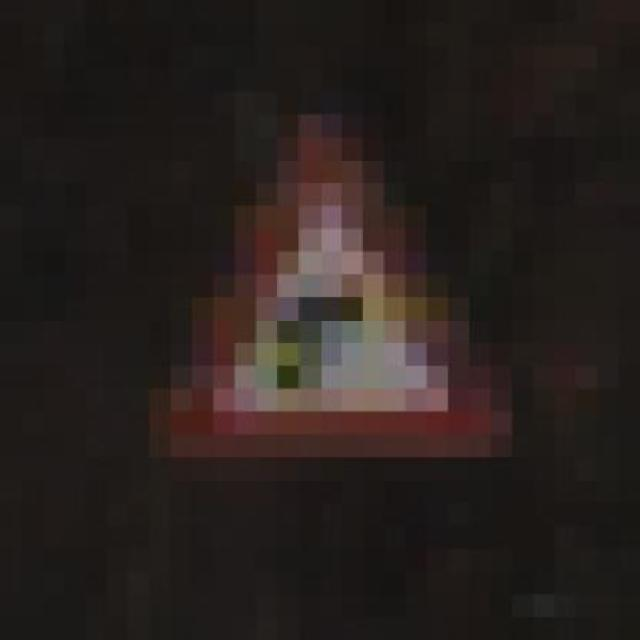Dangerous Rright Curve Ahead: (85, 91, 533, 480)
